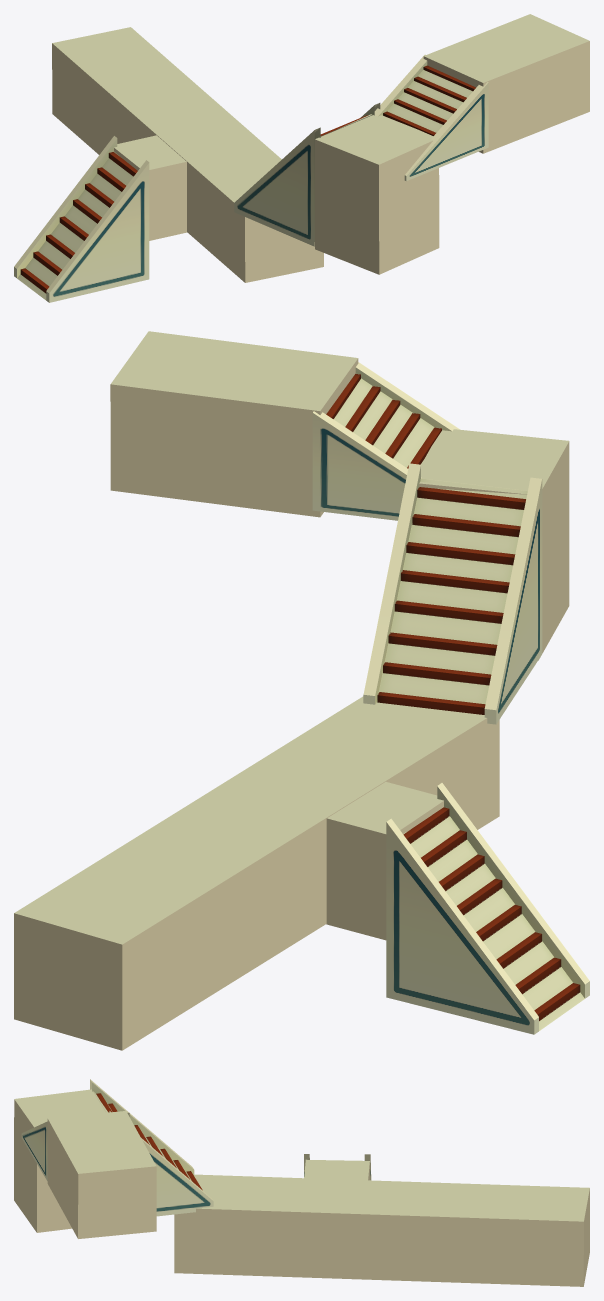
Rendered from Trapp.fbx.
3 renders of one model, top to bottom at view 1: azimuth 30°, elevation 25°; view 2: azimuth 150°, elevation 25°; view 3: azimuth 270°, elevation 25°, orthographic. The views are drawn at different scales.
Visible parts, largest first — view 1: Cube__199_, Cube__187_, SM_Trap__1_, Cube__200_, SM_Trap__2_, SM_Trap, Cube__203_; view 2: Cube__199_, SM_Trap, Cube__200_, SM_Trap__1_, SM_Trap__2_, Cube__187_, Cube__203_; view 3: Cube__199_, Cube__200_, Cube__187_, SM_Trap, Cube__203_, SM_Trap__2_.
Boxes of the visible parts, left/top/right/bottom form: Cube__199_: left=52, top=27, right=323, bottom=282; Cube__187_: left=315, top=114, right=439, bottom=274; SM_Trap__1_: left=14, top=136, right=149, bottom=302; Cube__200_: left=423, top=14, right=589, bottom=153; SM_Trap__2_: left=374, top=54, right=488, bottom=181; SM_Trap: left=234, top=103, right=380, bottom=246; Cube__203_: left=114, top=135, right=186, bottom=240; Cube__199_: left=14, top=696, right=499, bottom=1050; SM_Trap: left=363, top=463, right=542, bottom=724; Cube__200_: left=110, top=331, right=358, bottom=517; SM_Trap__1_: left=386, top=783, right=589, bottom=1034; SM_Trap__2_: left=312, top=362, right=459, bottom=520; Cube__187_: left=419, top=429, right=569, bottom=660; Cube__203_: left=326, top=782, right=443, bottom=940; Cube__199_: left=174, top=1174, right=589, bottom=1286; Cube__200_: left=47, top=1111, right=156, bottom=1238; Cube__187_: left=14, top=1089, right=108, bottom=1232; SM_Trap: left=90, top=1079, right=213, bottom=1216; Cube__203_: left=304, top=1159, right=369, bottom=1180; SM_Trap__2_: left=21, top=1112, right=129, bottom=1180.
Size of the model in its own units: 2661 by 1526 by 3451.
